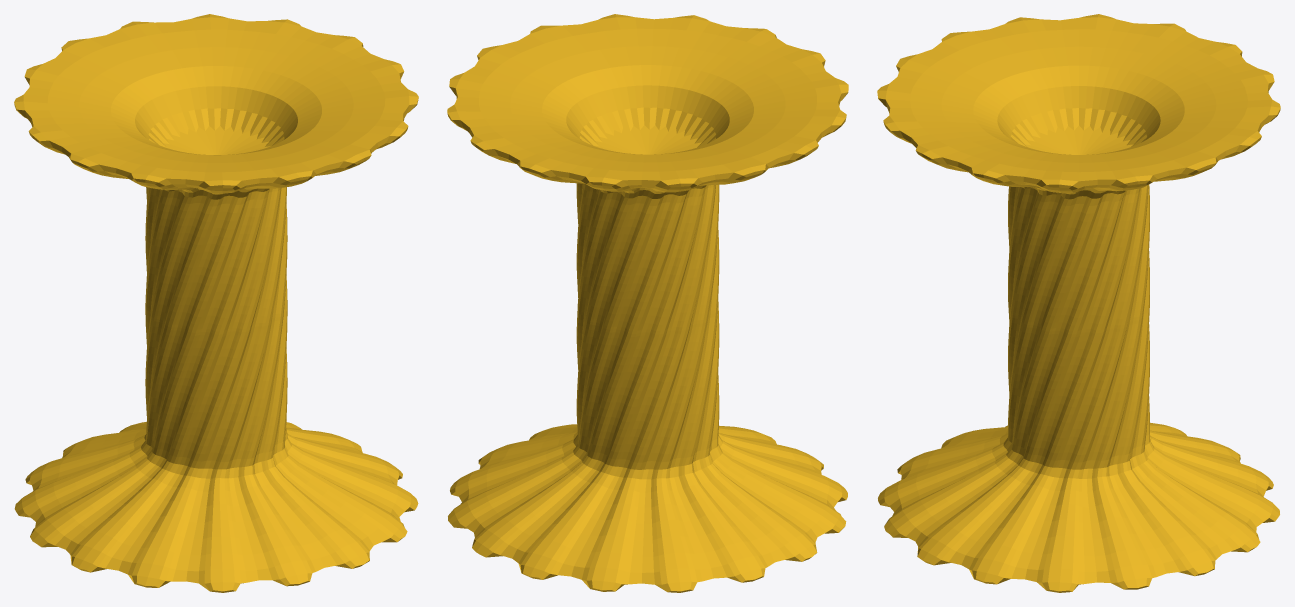
File: CandleHolder.glb
The picture shows the model from 3 angles, left to right: view 1: azimuth 30°, elevation 25°; view 2: azimuth 150°, elevation 25°; view 3: azimuth 270°, elevation 25°; orthographic projection.
Parts seen in each view (by area): view 1: Cylinder; view 2: Cylinder; view 3: Cylinder.
Boxes of the visible parts, x1=… form: Cylinder: x1=14, y1=14, x2=418, y2=592; Cylinder: x1=447, y1=14, x2=848, y2=592; Cylinder: x1=877, y1=14, x2=1280, y2=592.
Bounding box in the file's own units: 6.14 × 6.95 × 6.14.
